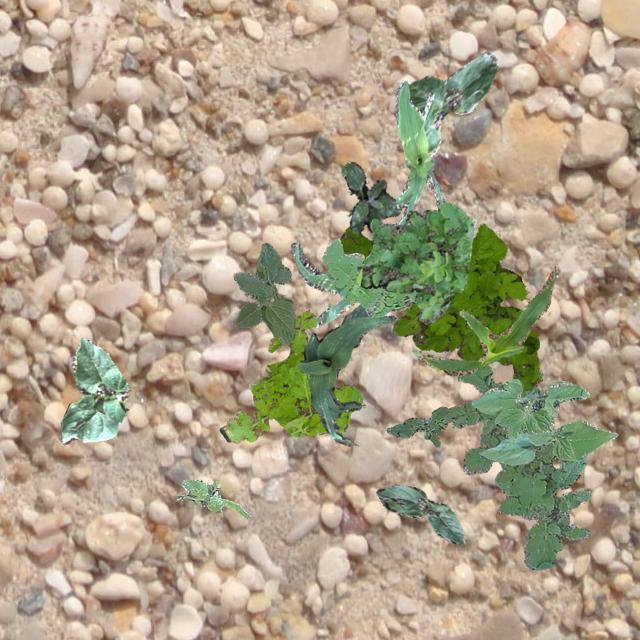crop: (412, 264, 558, 374), (296, 302, 394, 444), (471, 378, 616, 466), (407, 51, 498, 156), (60, 336, 130, 444), (392, 80, 442, 224), (232, 242, 294, 344), (290, 240, 354, 326), (376, 484, 464, 546)
weed: (340, 222, 538, 390), (442, 363, 590, 570), (218, 308, 362, 442), (356, 200, 472, 322), (322, 238, 416, 316), (340, 160, 400, 233), (176, 478, 250, 518), (386, 406, 448, 446)
